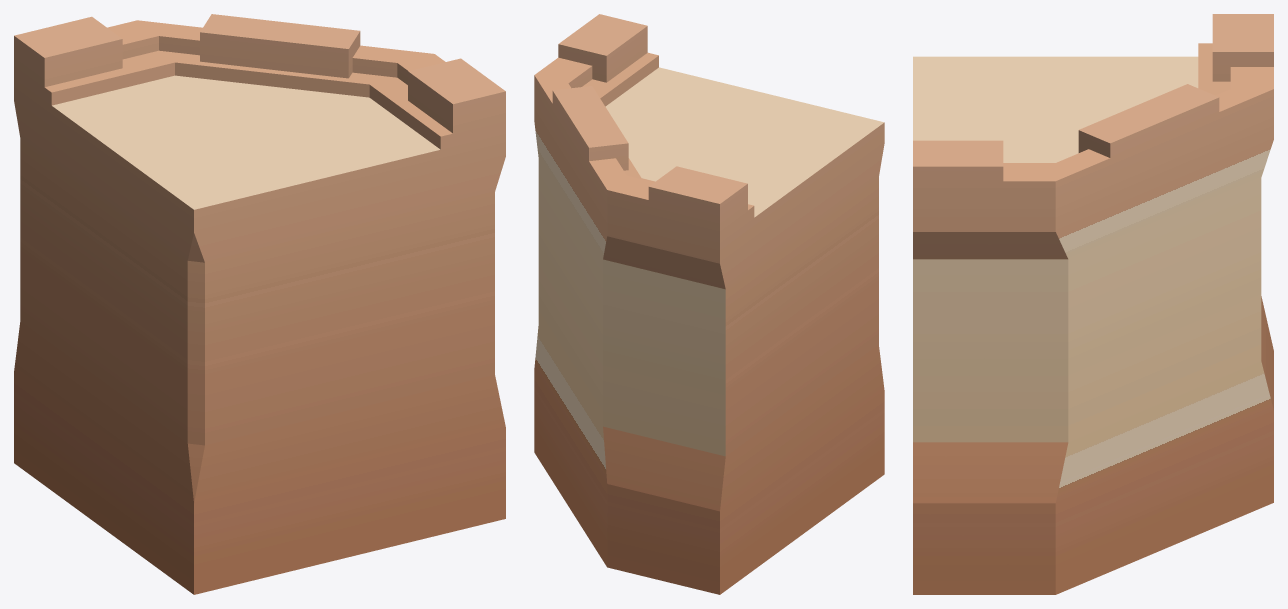
Rendered from wall-corner-slant.glb.
3 renders of one model, left to right at view 1: azimuth 30°, elevation 25°; view 2: azimuth 150°, elevation 25°; view 3: azimuth 270°, elevation 25°, orthographic. The views are drawn at different scales.
Visible parts, largest first — view 1: wall-corner-slant; view 2: wall-corner-slant; view 3: wall-corner-slant.
Part boxes in pixels (x1,y1,x2,y2): wall-corner-slant: (14, 14, 505, 594); wall-corner-slant: (534, 14, 884, 594); wall-corner-slant: (913, 14, 1273, 594).
Size of the model in its own units: 1 by 1.31 by 1.
Materials: 1 (1 with a texture image).
